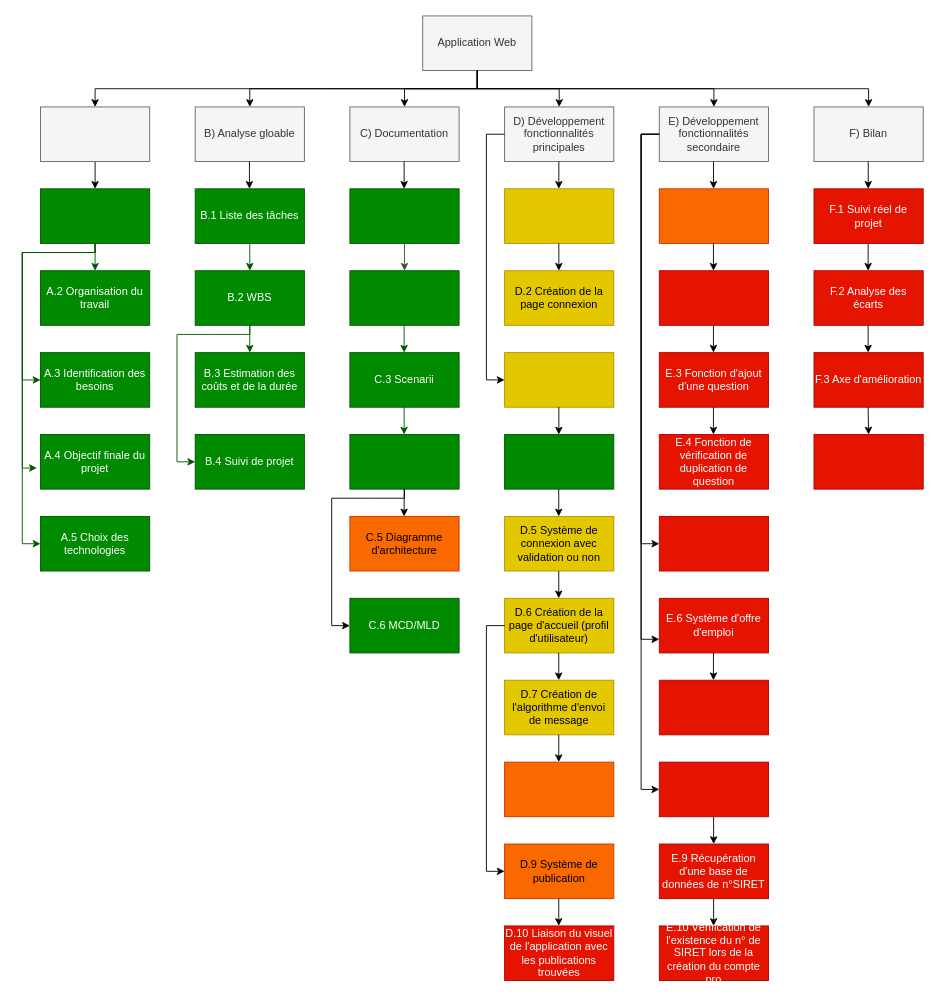
Image size: 939x1002. Some labels were removed from this diagram. Each missing label, with the centre of its shape:
A) Etude préliminaire: (95,134)
A.1 Choix du projet: (95,215)
C.1 Sketch: (404,215)
C.2 Maquette: (404,297)
C.4 Diagramme de cas d'utilisation: (404,461)
D.1 Création de la page d'inscription: (559,215)
D.3 Création des tables dans la base de données: (559,379)
D.4 Inscription d'un utilisateur avec mise des données dans la bdd: (559,461)
D.8 Liaison des messages de la base de données avec le front: (559,789)
E.1 Création de la page FAQ: (713,215)
E.2 Liaison entre la base de données et l'interface graphique: (713,297)
E.5 Système de follow: (713,543)
E.7 Récuperer CV et LM avec taille maximale: (713,707)
E.8 Système de commentaire et de like: (713,789)
F.4 Vidéo de présentation: (868,461)
